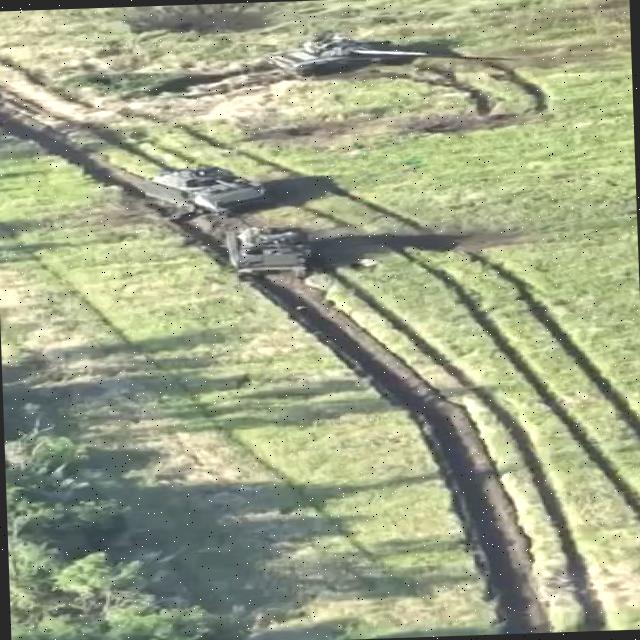AIFV: (138, 158, 274, 224), (217, 221, 328, 285)
MBT: (258, 27, 444, 80)
